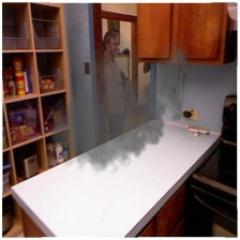smoke: (47, 32, 194, 179)
